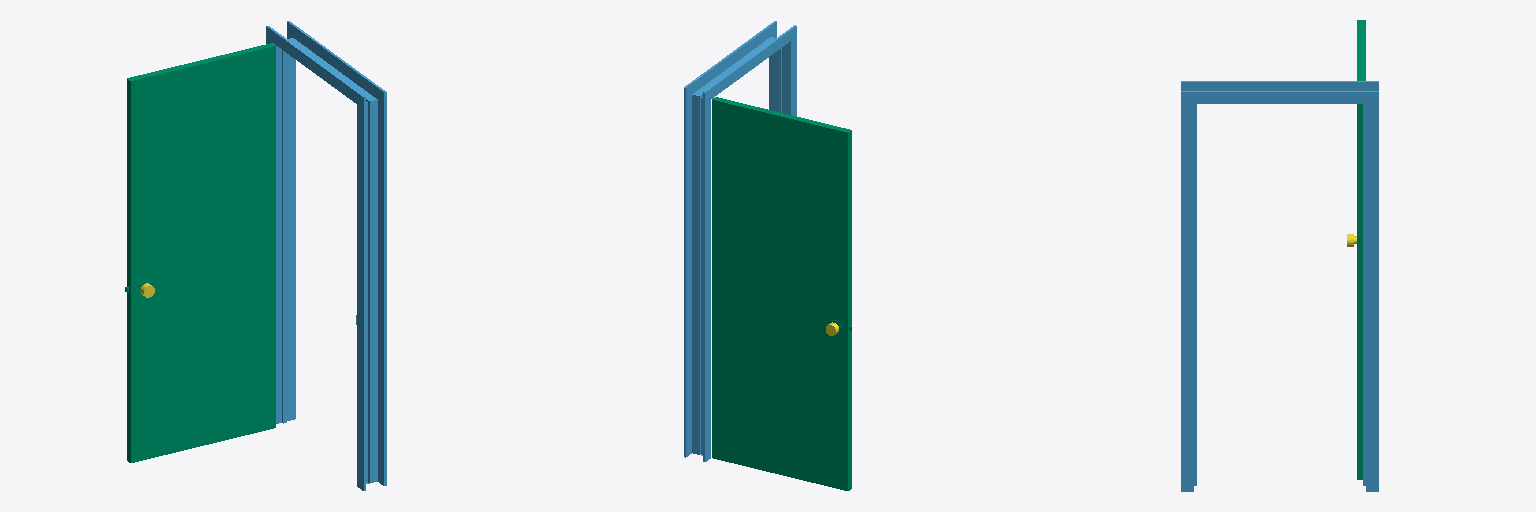
robot.urdf — partnet_5ac537b47ccd0f15c5924a1a5d3043b0:
<robot name="partnet_5ac537b47ccd0f15c5924a1a5d3043b0">
	<link name="base"><inertial><mass value="10" /><inertia ixx="1" ixy="0" ixz="0" iyy="1" iyz="0" izz="1" /></inertial></link>
	<link name="link_0">
		<visual name="outside_frame-1">
			<origin xyz="0 0 0" />
			<geometry>
				<mesh filename="textured_objs/original-6.obj" />
			</geometry>
		</visual>
		<visual name="outside_frame-1">
			<origin xyz="0 0 0" />
			<geometry>
				<mesh filename="textured_objs/original-11.obj" />
			</geometry>
		</visual>
		<visual name="outside_frame-1">
			<origin xyz="0 0 0" />
			<geometry>
				<mesh filename="textured_objs/original-7.obj" />
			</geometry>
		</visual>
		<visual name="outside_frame-1">
			<origin xyz="0 0 0" />
			<geometry>
				<mesh filename="textured_objs/original-2.obj" />
			</geometry>
		</visual>
		<visual name="outside_frame-1">
			<origin xyz="0 0 0" />
			<geometry>
				<mesh filename="textured_objs/original-12.obj" />
			</geometry>
		</visual>
		<visual name="outside_frame-1">
			<origin xyz="0 0 0" />
			<geometry>
				<mesh filename="textured_objs/original-9.obj" />
			</geometry>
		</visual>
		<visual name="outside_frame-1">
			<origin xyz="0 0 0" />
			<geometry>
				<mesh filename="textured_objs/original-8.obj" />
			</geometry>
		</visual>
		<visual name="outside_frame-1">
			<origin xyz="0 0 0" />
			<geometry>
				<mesh filename="textured_objs/original-10.obj" />
			</geometry>
		</visual>
		<collision>
			<origin xyz="0 0 0" />
			<geometry>
				<mesh filename="textured_objs/original-6.obj" />
			</geometry>
		</collision>
		<collision>
			<origin xyz="0 0 0" />
			<geometry>
				<mesh filename="textured_objs/original-11.obj" />
			</geometry>
		</collision>
		<collision>
			<origin xyz="0 0 0" />
			<geometry>
				<mesh filename="textured_objs/original-7.obj" />
			</geometry>
		</collision>
		<collision>
			<origin xyz="0 0 0" />
			<geometry>
				<mesh filename="textured_objs/original-2.obj" />
			</geometry>
		</collision>
		<collision>
			<origin xyz="0 0 0" />
			<geometry>
				<mesh filename="textured_objs/original-12.obj" />
			</geometry>
		</collision>
		<collision>
			<origin xyz="0 0 0" />
			<geometry>
				<mesh filename="textured_objs/original-9.obj" />
			</geometry>
		</collision>
		<collision>
			<origin xyz="0 0 0" />
			<geometry>
				<mesh filename="textured_objs/original-8.obj" />
			</geometry>
		</collision>
		<collision>
			<origin xyz="0 0 0" />
			<geometry>
				<mesh filename="textured_objs/original-10.obj" />
			</geometry>
		</collision>
	<inertial><mass value="10" /><inertia ixx="1" ixy="0" ixz="0" iyy="1" iyz="0" izz="1" /></inertial></link>
	<joint name="joint_0" type="fixed">
		<origin rpy="1.570796326794897 0 -1.570796326794897" xyz="0 0 0" />
		<child link="link_0" />
		<parent link="base" />
	</joint>
	<link name="link_1">
		<visual name="surface_board-22">
			<origin xyz="0.12825737327838105 -0.7112019999999997 0.2131384352424056" />
			<geometry>
				<mesh filename="textured_objs/original-1.obj" />
			</geometry>
		</visual>
		<visual name="other_leaf-17">
			<origin xyz="0.12825737327838105 -0.7112019999999997 0.2131384352424056" />
			<geometry>
				<mesh filename="textured_objs/original-5.obj" />
			</geometry>
		</visual>
		<visual name="other_leaf-17">
			<origin xyz="0.12825737327838105 -0.7112019999999997 0.2131384352424056" />
			<geometry>
				<mesh filename="textured_objs/original-3.obj" />
			</geometry>
		</visual>
		<visual name="fixed_part-20">
			<origin xyz="0.12825737327838105 -0.7112019999999997 0.2131384352424056" />
			<geometry>
				<mesh filename="textured_objs/original-20.obj" />
			</geometry>
		</visual>
		<visual name="fixed_part-18">
			<origin xyz="0.12825737327838105 -0.7112019999999997 0.2131384352424056" />
			<geometry>
				<mesh filename="textured_objs/original-15.obj" />
			</geometry>
		</visual>
		<collision>
			<origin xyz="0.12825737327838105 -0.7112019999999997 0.2131384352424056" />
			<geometry>
				<mesh filename="textured_objs/original-1.obj" />
			</geometry>
		</collision>
		<collision>
			<origin xyz="0.12825737327838105 -0.7112019999999997 0.2131384352424056" />
			<geometry>
				<mesh filename="textured_objs/original-5.obj" />
			</geometry>
		</collision>
		<collision>
			<origin xyz="0.12825737327838105 -0.7112019999999997 0.2131384352424056" />
			<geometry>
				<mesh filename="textured_objs/original-3.obj" />
			</geometry>
		</collision>
		<collision>
			<origin xyz="0.12825737327838105 -0.7112019999999997 0.2131384352424056" />
			<geometry>
				<mesh filename="textured_objs/original-20.obj" />
			</geometry>
		</collision>
		<collision>
			<origin xyz="0.12825737327838105 -0.7112019999999997 0.2131384352424056" />
			<geometry>
				<mesh filename="textured_objs/original-15.obj" />
			</geometry>
		</collision>
	<inertial><mass value="10" /><inertia ixx="1" ixy="0" ixz="0" iyy="1" iyz="0" izz="1" /></inertial></link>
	<joint name="joint_1" type="revolute">
		<origin xyz="-0.12825737327838105 0.7112019999999997 -0.2131384352424056" />
		<axis xyz="0 -1 0" />
		<child link="link_1" />
		<parent link="link_0" />
		<limit effort="30" lower="-1.5707963267948966" upper="-0.0" velocity="1.0" />
	</joint>
	<link name="link_2">
		<visual name="movable_part-21">
			<origin xyz="0.17871300000000034 0.1399846628750067 -0.39987489142255717" />
			<geometry>
				<mesh filename="textured_objs/original-19.obj" />
			</geometry>
		</visual>
		<visual name="movable_part-21">
			<origin xyz="0.17871300000000034 0.1399846628750067 -0.39987489142255717" />
			<geometry>
				<mesh filename="textured_objs/original-22.obj" />
			</geometry>
		</visual>
		<visual name="movable_part-21">
			<origin xyz="0.17871300000000034 0.1399846628750067 -0.39987489142255717" />
			<geometry>
				<mesh filename="textured_objs/original-21.obj" />
			</geometry>
		</visual>
		<visual name="movable_part-19">
			<origin xyz="0.17871300000000034 0.1399846628750067 -0.39987489142255717" />
			<geometry>
				<mesh filename="textured_objs/original-16.obj" />
			</geometry>
		</visual>
		<visual name="movable_part-19">
			<origin xyz="0.17871300000000034 0.1399846628750067 -0.39987489142255717" />
			<geometry>
				<mesh filename="textured_objs/original-17.obj" />
			</geometry>
		</visual>
		<visual name="movable_part-19">
			<origin xyz="0.17871300000000034 0.1399846628750067 -0.39987489142255717" />
			<geometry>
				<mesh filename="textured_objs/original-14.obj" />
			</geometry>
		</visual>
		<collision>
			<origin xyz="0.17871300000000034 0.1399846628750067 -0.39987489142255717" />
			<geometry>
				<mesh filename="textured_objs/original-19.obj" />
			</geometry>
		</collision>
		<collision>
			<origin xyz="0.17871300000000034 0.1399846628750067 -0.39987489142255717" />
			<geometry>
				<mesh filename="textured_objs/original-22.obj" />
			</geometry>
		</collision>
		<collision>
			<origin xyz="0.17871300000000034 0.1399846628750067 -0.39987489142255717" />
			<geometry>
				<mesh filename="textured_objs/original-21.obj" />
			</geometry>
		</collision>
		<collision>
			<origin xyz="0.17871300000000034 0.1399846628750067 -0.39987489142255717" />
			<geometry>
				<mesh filename="textured_objs/original-16.obj" />
			</geometry>
		</collision>
		<collision>
			<origin xyz="0.17871300000000034 0.1399846628750067 -0.39987489142255717" />
			<geometry>
				<mesh filename="textured_objs/original-17.obj" />
			</geometry>
		</collision>
		<collision>
			<origin xyz="0.17871300000000034 0.1399846628750067 -0.39987489142255717" />
			<geometry>
				<mesh filename="textured_objs/original-14.obj" />
			</geometry>
		</collision>
	<inertial><mass value="10" /><inertia ixx="1" ixy="0" ixz="0" iyy="1" iyz="0" izz="1" /></inertial></link>
	<joint name="joint_2" type="revolute">
		<origin xyz="-0.050455626721619296 -0.8511866628750063 0.6130133266649628" />
		<axis xyz="1 0 0" />
		<child link="link_2" />
		<parent link="link_1" />
		<limit effort="30" lower="0.0" upper="0.0" velocity="1.0" />
	</joint>
</robot>

--- Render facts (derived) ---
Views: 3 orthographic renders of the robot side by side, from view 1: azimuth 30°, elevation 25°; view 2: azimuth 150°, elevation 25°; view 3: azimuth 270°, elevation 25°.
Model partnet_5ac537b47ccd0f15c5924a1a5d3043b0 with 4 links and 3 joints (2 revolute, 1 fixed), rooted at base, posed all joints at 0.
Visible links, largest first — view 1: link_1, link_0; view 2: link_1, link_0; view 3: link_0, link_1.
Boxes of the visible links, <box> form: link_1: <box>125,43,275,462</box>; link_0: <box>266,21,386,490</box>; link_1: <box>712,97,851,490</box>; link_0: <box>684,21,796,461</box>; link_0: <box>1181,81,1378,491</box>; link_1: <box>1357,20,1365,479</box>.
Bounding box of the posed robot: 0.7344 × 0.7246 × 1.62 m (x, y, z).
Meshes: 19 distinct files referenced, 19 mesh visuals loaded (19 OBJ).